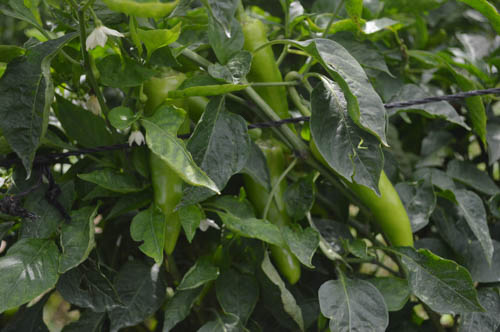ChiliPepper: (308, 119, 414, 256), (144, 74, 190, 258), (248, 138, 304, 281), (235, 20, 284, 123)
